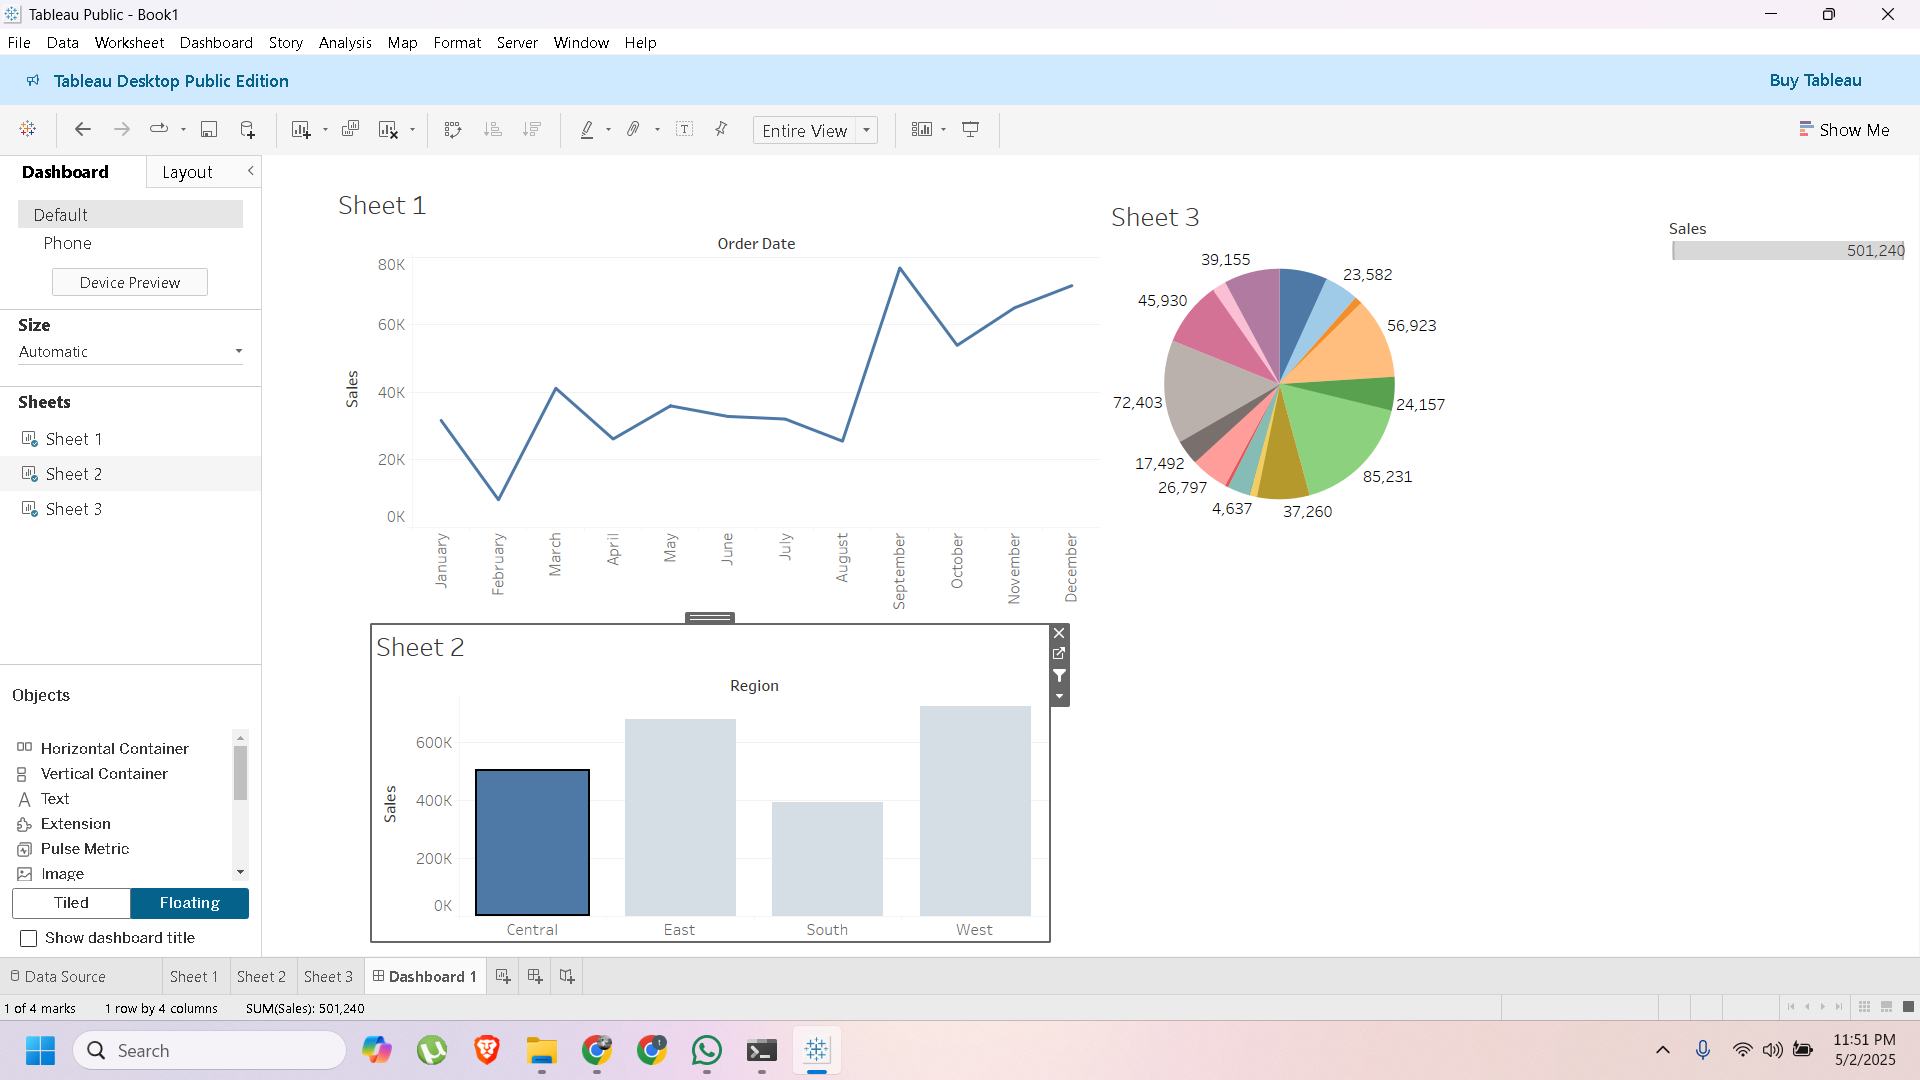

Layout of this report page (visuals, bound fields, positions):
{"tool":"tableau","page":{"name":"Dashboard 1","canvas":[1000,1000],"units":"permille","ordinal":0},"visuals":[{"type":"worksheet","title":"Sheet 1","mark":"Automatic","rows":["Sales"],"cols":["Order Date"],"box":[43.5,35,462.3,554.3]},{"type":"worksheet","title":"Sheet 3","mark":"Pie","box":[510,49.9,320.5,470.7]},{"type":"legend","title":"Sheet 3","param":"[federated.0s47rs51ssgf8y13znfwb18qs4qz].[sum:Sales:qk]","box":[849.1,78.7,145.4,53.7]},{"type":"worksheet","title":"Sheet 2","mark":"Automatic","rows":["Sales"],"cols":["Region"],"box":[66.4,586.8,408.6,394.5]}]}

Visuals, with their boxes on the dashboard's canvas, which has no fixed pixel size, in thousandths of its width and height (x1, y1, x2, y2). These are canvas units, not pixel positions in the 1920x1080 screenshot, which may show the page scaled, cropped or inside an application window:
"Sheet 1" worksheet: 44,35,506,589
"Sheet 3" worksheet (Pie marks): 510,50,830,521
"Sheet 3" legend: 849,79,994,132
"Sheet 2" worksheet: 66,587,475,981
